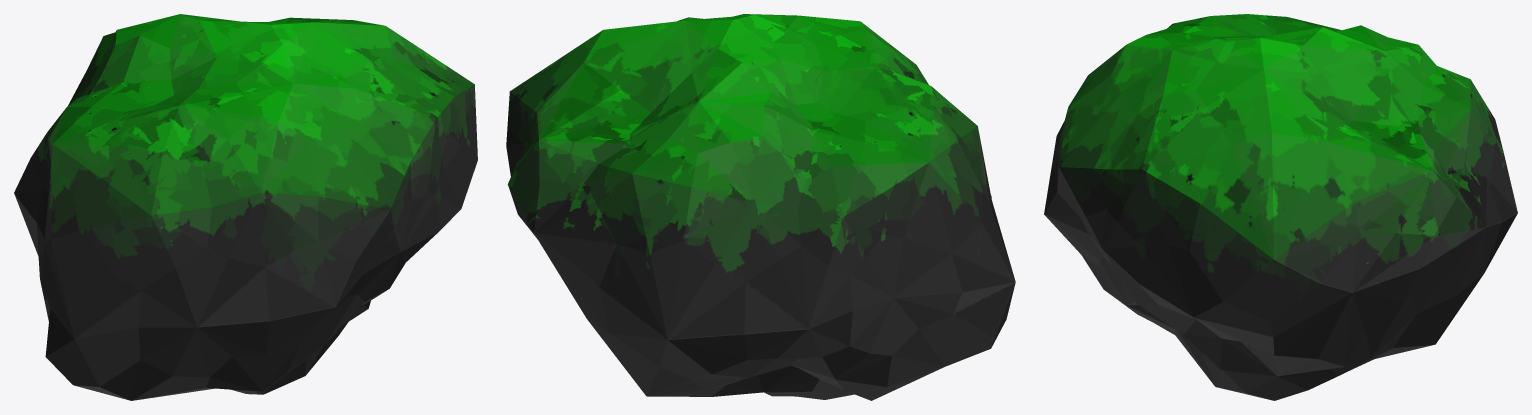
Rendered from GrassyRock3.glb.
3 views of the same model, side by side, from view 1: azimuth 30°, elevation 25°; view 2: azimuth 150°, elevation 25°; view 3: azimuth 270°, elevation 25° (orthographic). The views are drawn at different scales.
Visible parts, largest first — view 1: GrassyRock3; view 2: GrassyRock3; view 3: GrassyRock3.
Part boxes in pixels (x1,y1,x2,y2): GrassyRock3: (14, 14, 477, 400); GrassyRock3: (506, 14, 1015, 400); GrassyRock3: (1044, 14, 1517, 400).
Bounding box in the file's own units: 5.32 × 4.01 × 4.77.
Materials: 1 (1 with a texture image).
